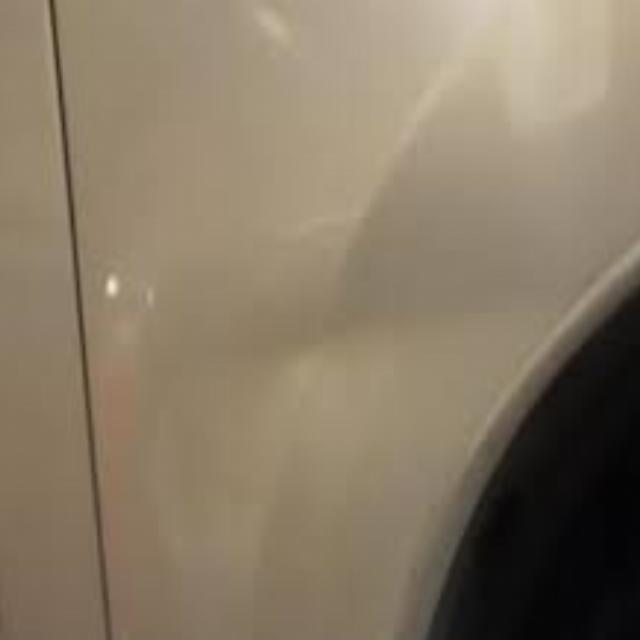dents: (222, 273, 367, 419)
